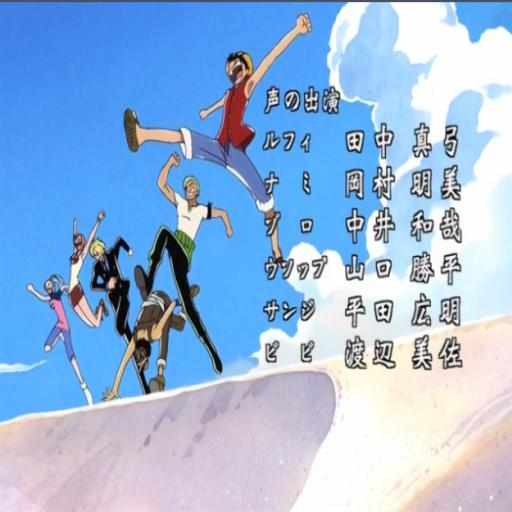Luffy: (118, 22, 333, 254)
Nami: (44, 191, 112, 341)
Usopp: (112, 267, 202, 436)
Zoro: (140, 158, 234, 378)
sanji: (88, 226, 151, 347)
